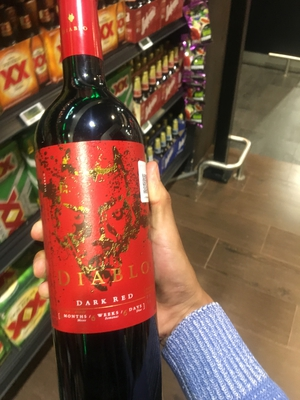diablo dark red: (33, 2, 181, 391)
